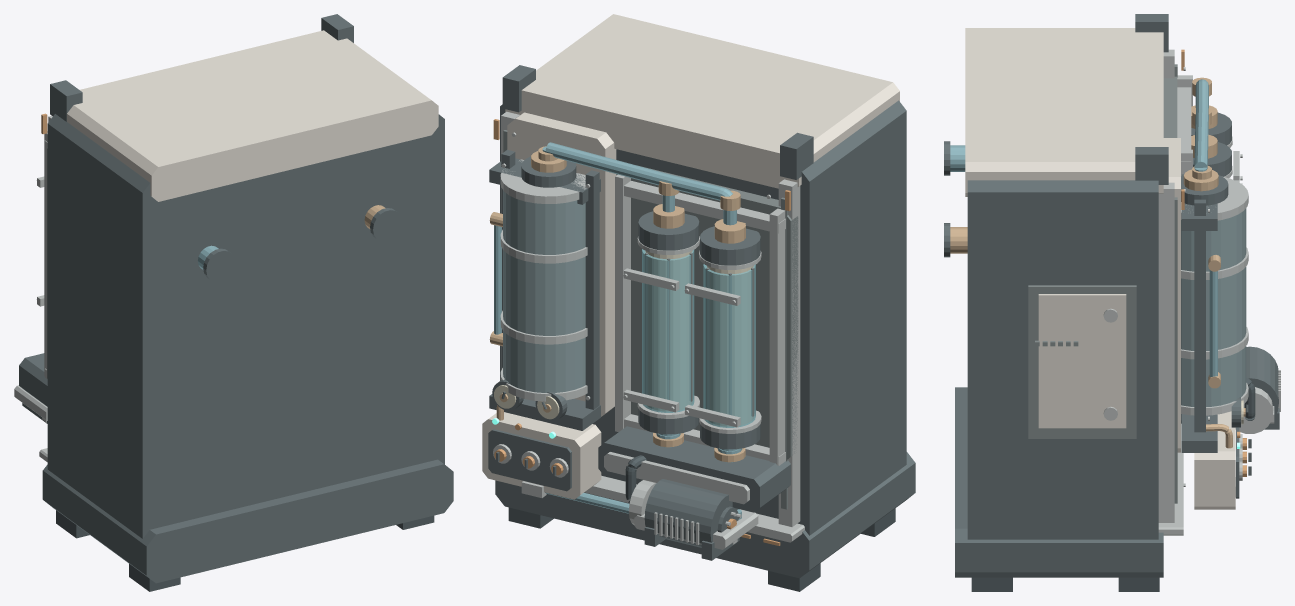
The model's file is water_reclaimer_source.glb.
The picture shows the model from 3 angles, left to right: view 1: azimuth 30°, elevation 25°; view 2: azimuth 150°, elevation 25°; view 3: azimuth 270°, elevation 25°; orthographic projection. The views are drawn at different scales.
Parts seen in each view (by area): view 1: static__frame, static__shell, static__trim, static__rubber; view 2: static__frame, static__shell, static__trim, static__darkblue, static__recess, filter_cartridge_A__fluid, filter_cartridge_B__fluid, filter_cartridge_B__filter, filter_cartridge_A__filter, static__pipe, filter_cartridge_A__frame, filter_cartridge_B__frame (+8 smaller); view 3: static__frame, static__shell, static__trim, access_hatch__shell, static__darkblue, access_hatch__recess, static__pipe, static__recess, static__copper, static__rubber, filter_cartridge_B__frame, filter_cartridge_A__frame.
Boxes of the visible parts, <box> form: static__frame: <box>19,14,453,583</box>; static__shell: <box>67,30,438,201</box>; static__trim: <box>14,116,52,462</box>; static__rubber: <box>56,510,434,591</box>; static__frame: <box>488,65,915,578</box>; static__shell: <box>482,14,899,499</box>; static__trim: <box>500,111,804,549</box>; static__darkblue: <box>503,190,585,392</box>; static__recess: <box>503,130,798,509</box>; filter_cartridge_A__fluid: <box>703,264,755,427</box>; filter_cartridge_B__fluid: <box>642,249,694,412</box>; filter_cartridge_B__filter: <box>645,250,692,411</box>; filter_cartridge_A__filter: <box>706,265,753,426</box>; static__pipe: <box>494,142,742,519</box>; filter_cartridge_A__frame: <box>700,226,760,449</box>; filter_cartridge_B__frame: <box>638,211,699,434</box>; static__frame: <box>944,14,1279,577</box>; static__shell: <box>965,28,1235,509</box>; static__trim: <box>1158,49,1280,535</box>; access_hatch__shell: <box>1038,294,1126,428</box>; static__darkblue: <box>1181,208,1246,406</box>; access_hatch__recess: <box>1028,285,1136,438</box>; static__pipe: <box>950,79,1217,376</box>; static__recess: <box>1035,64,1177,503</box>; static__copper: <box>950,77,1245,448</box>; static__rubber: <box>971,378,1255,591</box>; filter_cartridge_B__frame: <box>1193,142,1231,176</box>; filter_cartridge_A__frame: <box>1191,112,1231,145</box>.
Bounding box in the file's own units: 1.42 × 1.88 × 1.31.
